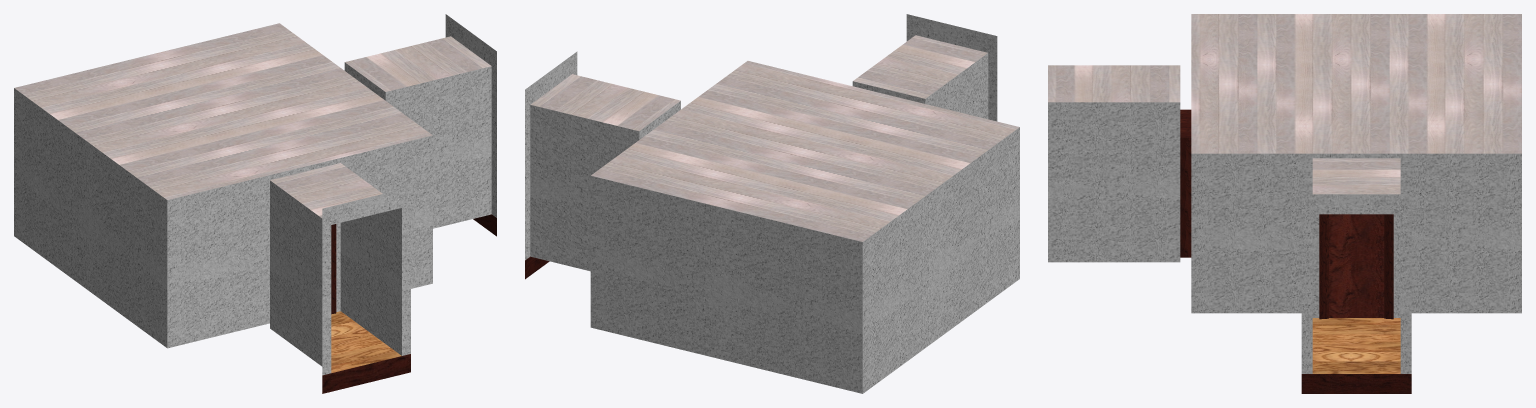
The model's file is townDungeon5cell.gltf.
The picture shows the model from 3 angles, left to right: view 1: azimuth 30°, elevation 25°; view 2: azimuth 150°, elevation 25°; view 3: azimuth 270°, elevation 25°; orthographic projection. The views are drawn at different scales.
Parts seen in each view (by area): view 1: townDungeon5cell; view 2: townDungeon5cell; view 3: townDungeon5cell.
Part boxes in pixels (x1,y1,x2,y2): townDungeon5cell: (14,14,496,393); townDungeon5cell: (525,14,1019,393); townDungeon5cell: (1048,14,1521,393).
Size of the model in its own units: 10.75 by 5 by 10.75.
4 materials, 4 textured.
